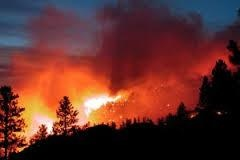fire: (74, 85, 126, 128)
